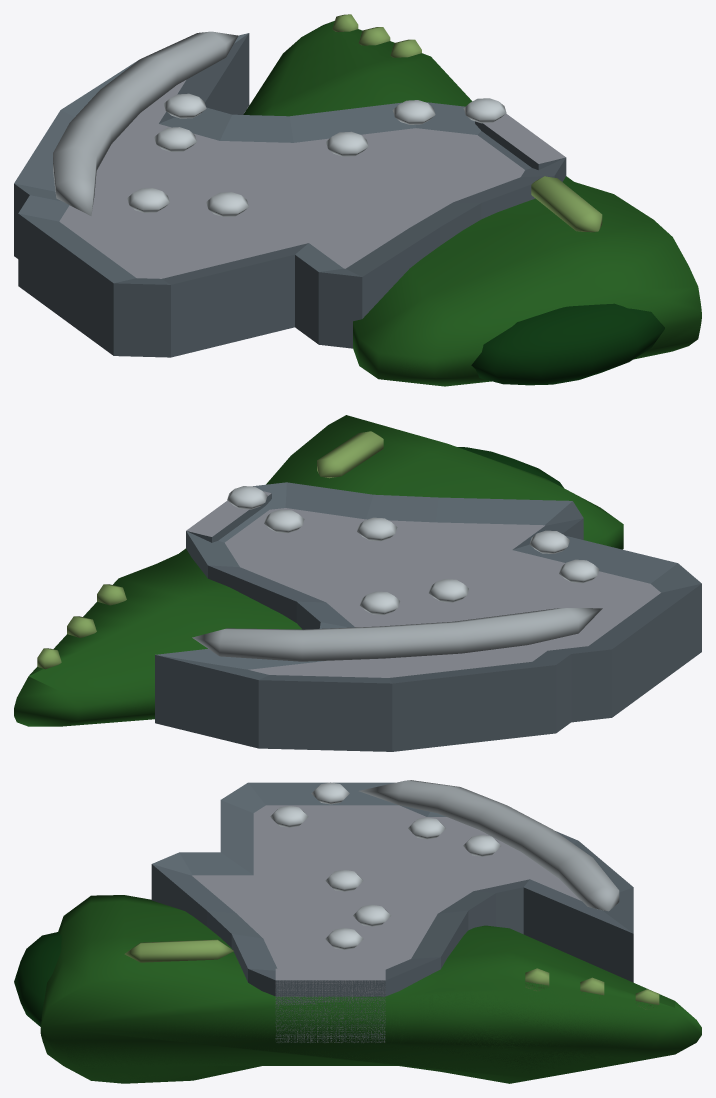
Rendered from newshh-192.glb.
The picture shows the model from 3 angles, top to bottom: view 1: azimuth 30°, elevation 25°; view 2: azimuth 150°, elevation 25°; view 3: azimuth 270°, elevation 25°; orthographic projection. The views are drawn at different scales.
Parts seen in each view (by area): view 1: newshh-192; view 2: newshh-192; view 3: newshh-192.
Part boxes in pixels (bbox=[...]): newshh-192: bbox=[14, 14, 701, 386]; newshh-192: bbox=[14, 415, 701, 751]; newshh-192: bbox=[14, 780, 701, 1083].
Size of the model in its own units: 1.42 by 0.4504 by 2.08.
